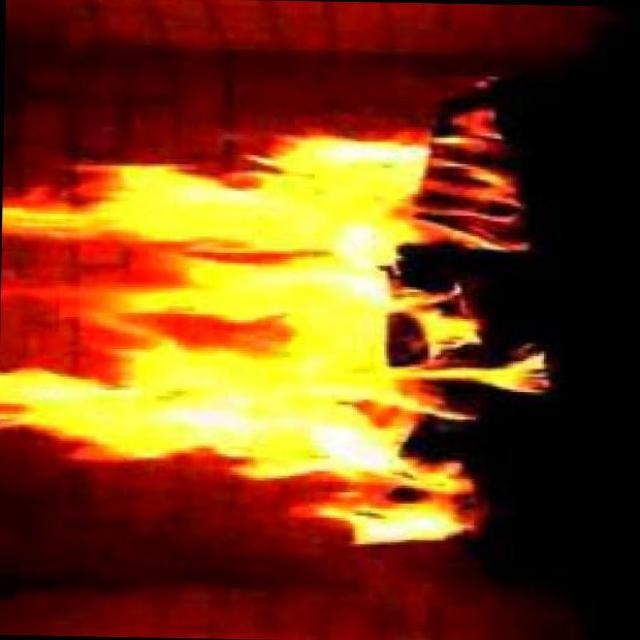Fire: (36, 148, 450, 529)
